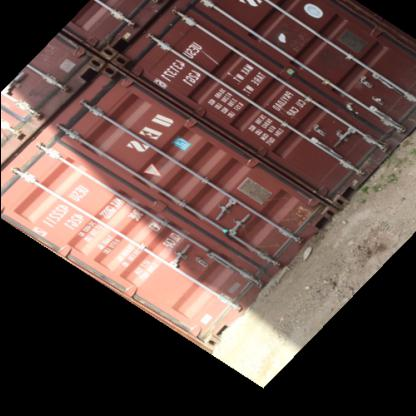Damage: (218, 198, 314, 264)
